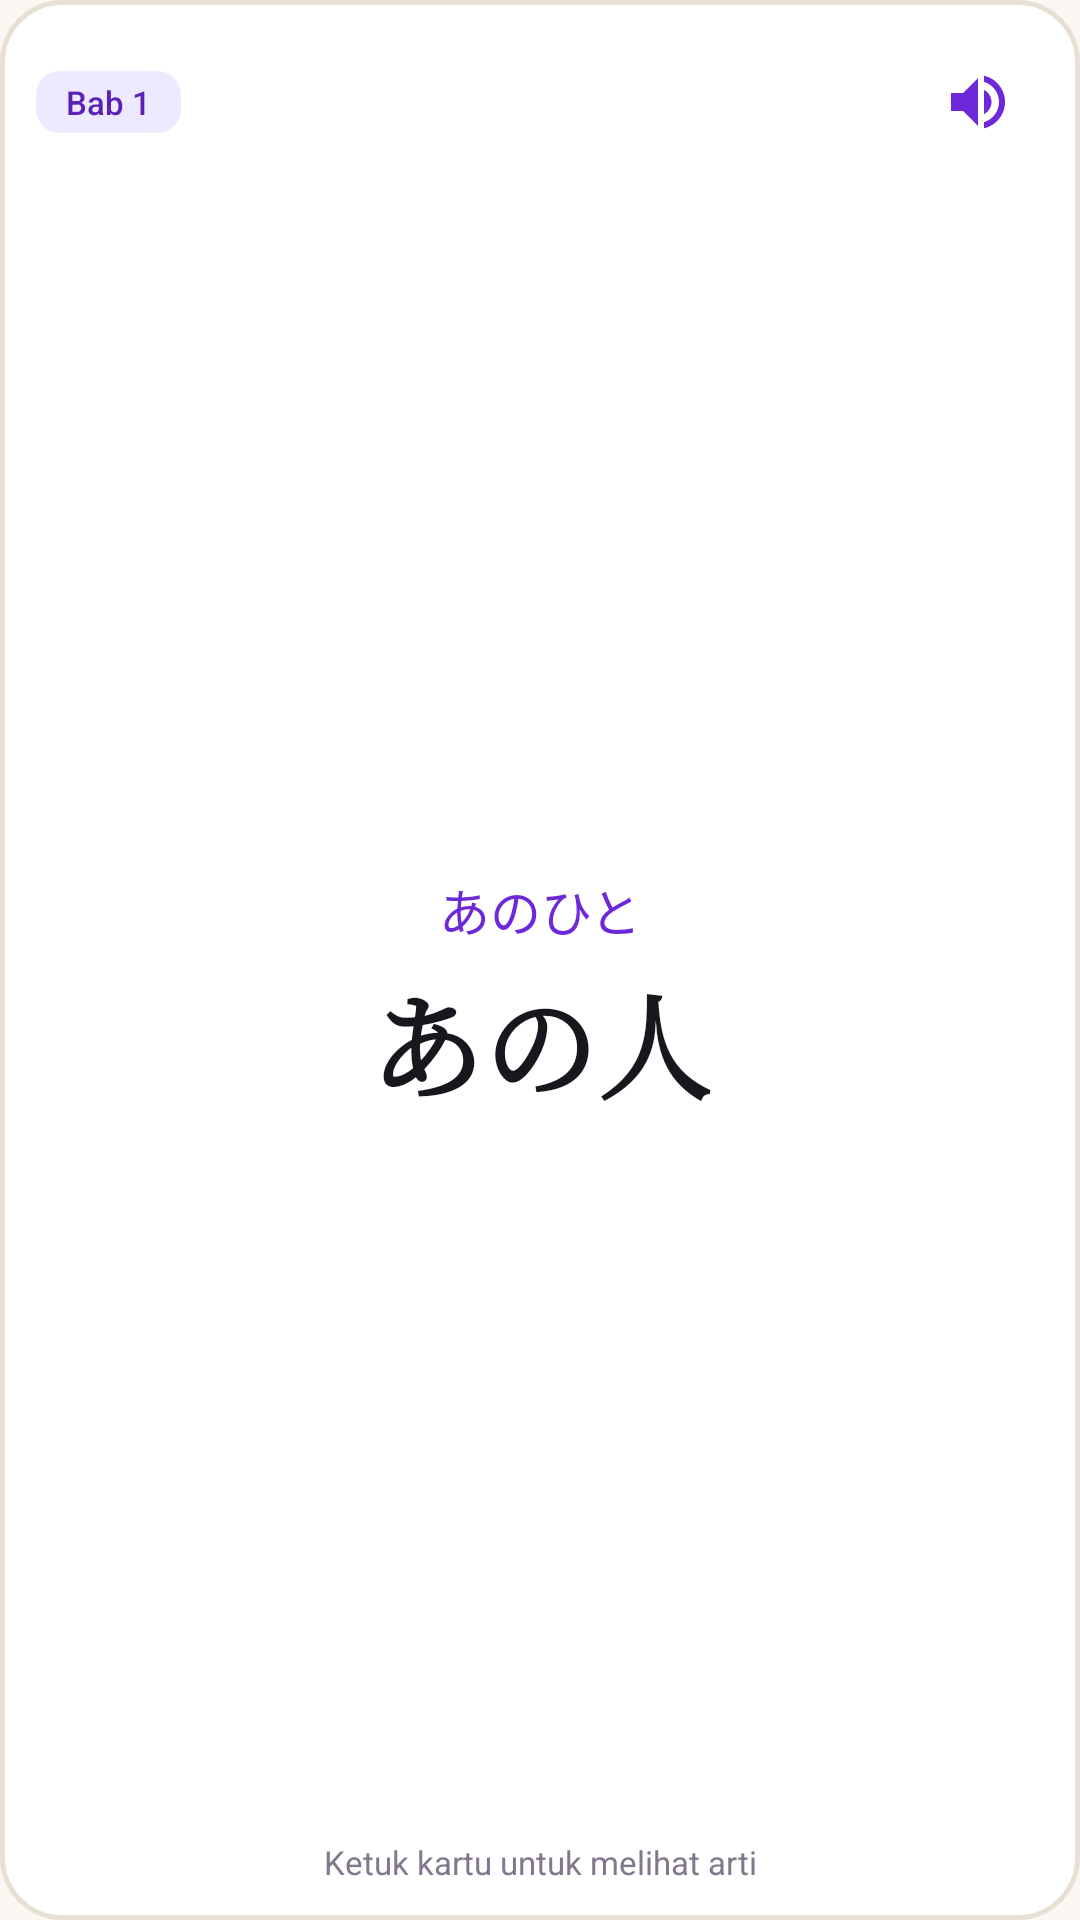

Icons on this 1080×1920 Android screen, each with its box as detection(x1, y1, x2, y2):
Lafal: detection(951, 75, 1005, 129)
